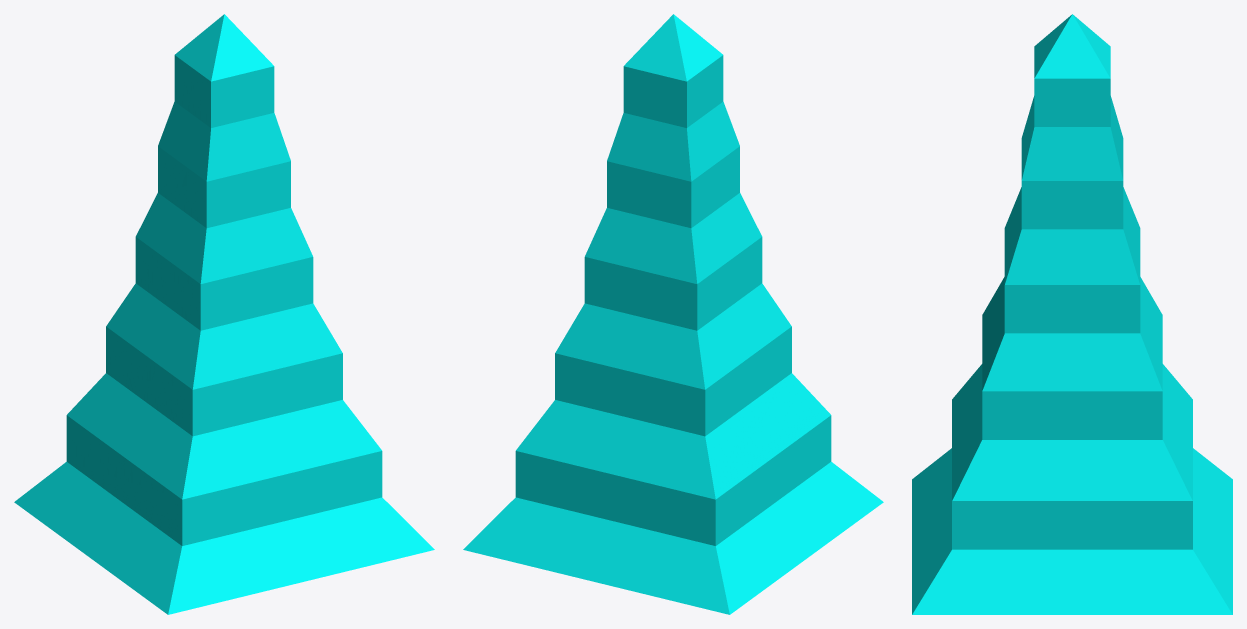
File: convex.fbx
3 renders of one model, left to right at view 1: azimuth 30°, elevation 25°; view 2: azimuth 150°, elevation 25°; view 3: azimuth 270°, elevation 25°, orthographic. The views are drawn at different scales.
Parts seen in each view (by area): view 1: Cube; view 2: Cube; view 3: Cube.
Part boxes in pixels (x1,y1,x2,y2): Cube: [14, 14, 434, 614]; Cube: [463, 14, 883, 614]; Cube: [912, 14, 1232, 614].
Size of the model in its own units: 6 by 11 by 6.
1 material, 1 textured.
